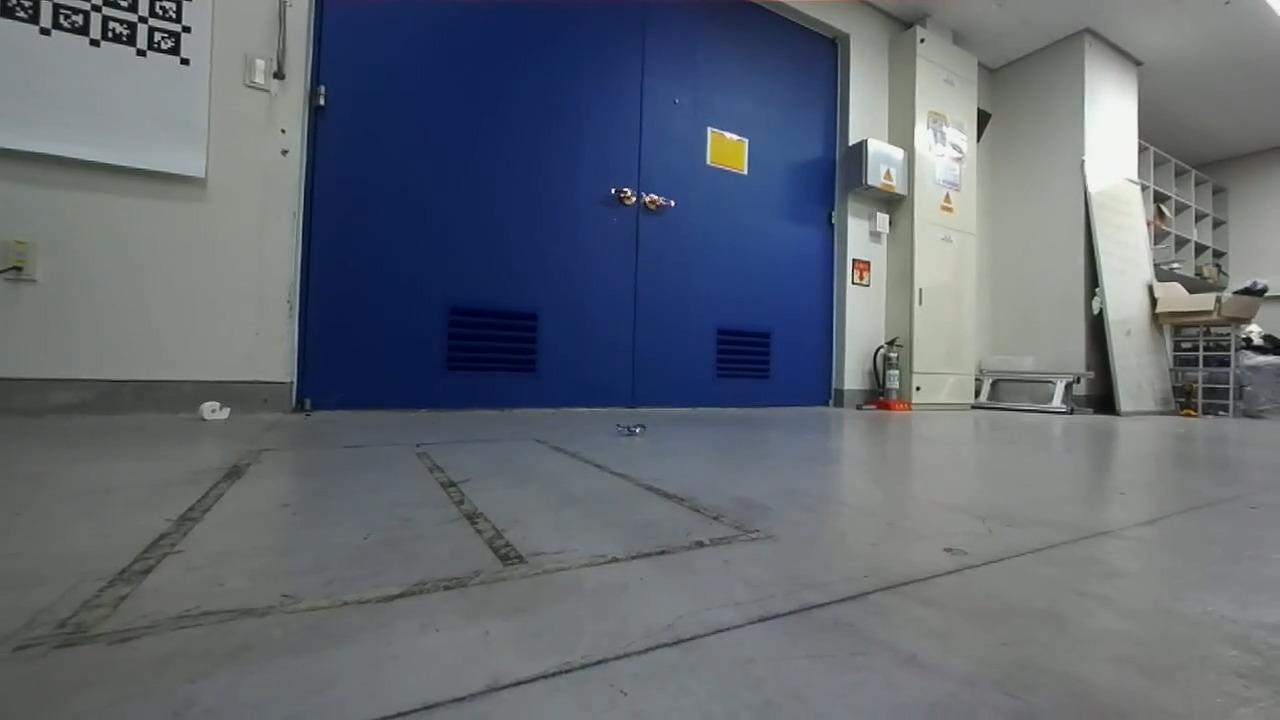crazyflie: (607, 417, 659, 443)
